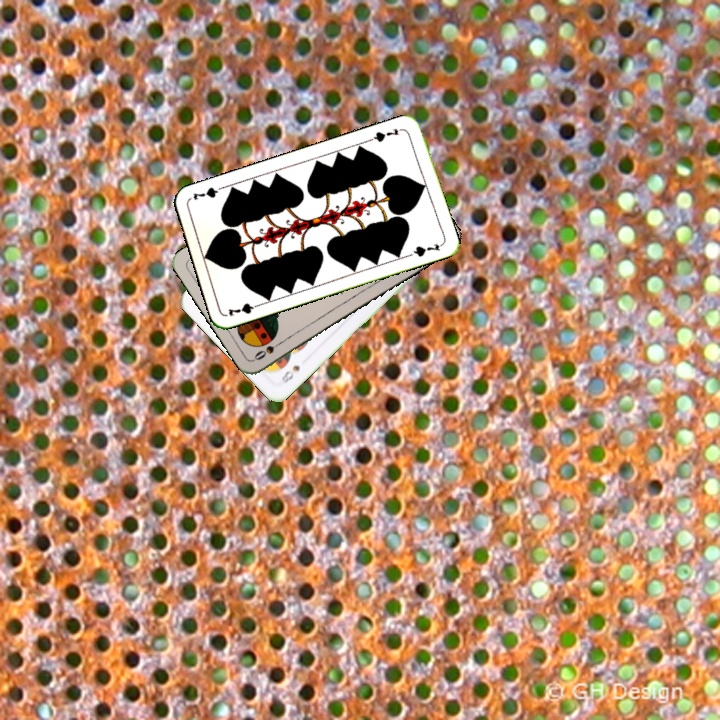G7: (366, 124, 406, 145), (224, 299, 264, 319)
S8: (277, 361, 302, 386)
SO: (250, 336, 287, 363)
